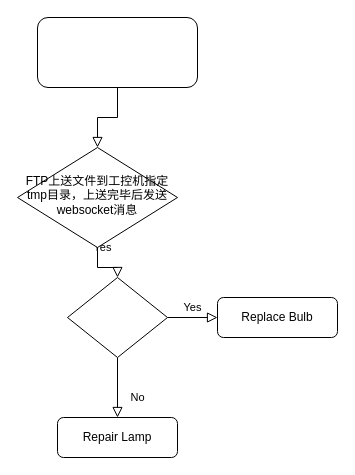
Some shapes in this 355 by 475 pixel diagram are drawn without their labels. Each missing label, with the centre of its shape:
Bulb burned out?: (x=117, y=317)
web端选择升级包，点击升级: (x=117, y=52)
